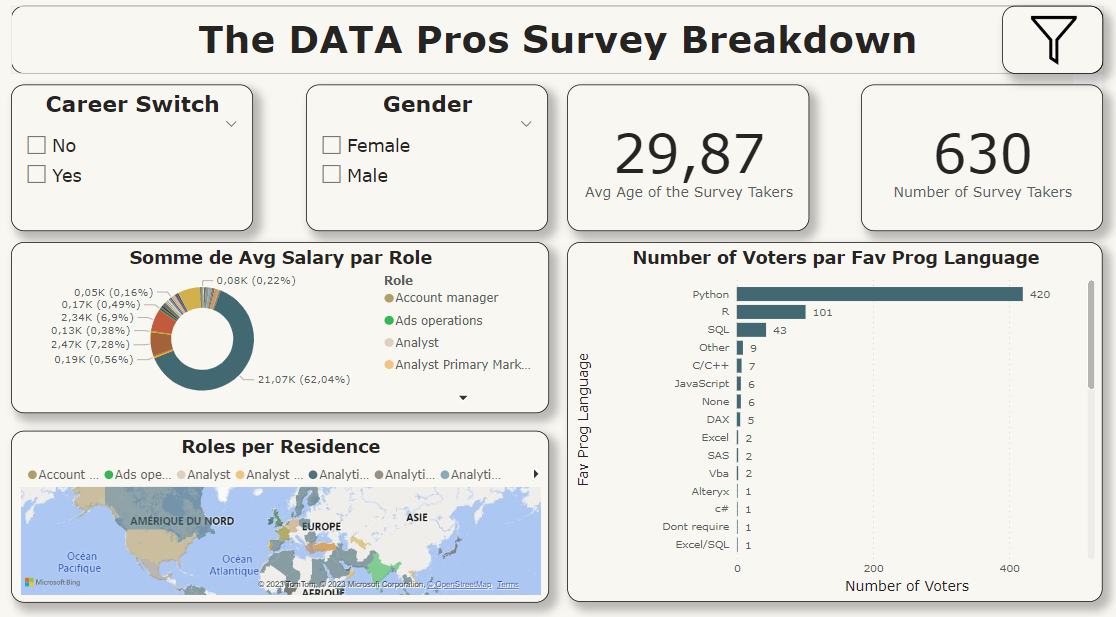

This screenshot's page, from the dashboard's own definition file:
{"tool":"powerbi","page":{"name":"Data Pro Survey Report","canvas":[1280,720],"ordinal":0},"visuals":[{"type":"slicer","title":"Career Switch","fields":{"Values":["Data Professional Survey.Q2 - Did you switch careers into Data?"]},"box":[16.5,105.7,275.8,167.4],"z":0},{"type":"slicer","title":"Gender","fields":{"Values":["Data Professional Survey.Q9 - Male/Female?"]},"box":[354,105.7,275.8,167.4],"z":1000},{"type":"textbox","box":[16.5,15,1245.8,78],"z":2000},{"type":"card","title":"Gender","fields":{"Values":["Count(Data Professional Survey.Unique ID)"]},"box":[986.6,105.7,275.8,167.4],"z":3000},{"type":"card","title":"Gender","fields":{"Values":["Avg(Data Professional Survey.Age)"]},"box":[651.8,105.7,275.8,167.4],"z":4000},{"type":"donutChart","fields":{"Category":["Data Professional Survey.Q1 - Which Title Best Fits your Current Role?"],"Y":["Sum(Data Professional Survey.Avg Salary)"]},"box":[16.5,285.4,613.4,194.9],"z":5000},{"type":"image","box":[1146.8,15.2,115.3,77.4],"z":6000},{"type":"barChart","fields":{"Category":["Data Professional Survey.Fav Prog Language"],"Y":["CountNonNull(Data Professional Survey.Unique ID)"]},"box":[651.8,285.4,610.6,410.3],"z":7000},{"type":"filledMap","title":"Roles per Residence","fields":{"Category":["Data Professional Survey.Country of Residence"],"Series":["Data Professional Survey.Role "]},"box":[16.5,500.9,613.4,196.2],"z":8000}]}

Visuals, with their boxes in screenshot pixels (x1, y1, x2, y2), scaled from the page's 1280x720 canvas onto the 1116x617 screenshot:
"Career Switch" slicer: {"x1": 14, "y1": 91, "x2": 255, "y2": 234}
"Gender" slicer: {"x1": 309, "y1": 91, "x2": 549, "y2": 234}
textbox: {"x1": 14, "y1": 13, "x2": 1101, "y2": 80}
"Gender" card: {"x1": 860, "y1": 91, "x2": 1101, "y2": 234}
"Gender" card: {"x1": 568, "y1": 91, "x2": 809, "y2": 234}
donutChart - Data Professional Survey.Q1 - Which Title Best Fits your Current Role? x Sum(Data Professional Survey.Avg Salary): {"x1": 14, "y1": 245, "x2": 549, "y2": 412}
image: {"x1": 1000, "y1": 13, "x2": 1100, "y2": 79}
barChart - Data Professional Survey.Fav Prog Language x CountNonNull(Data Professional Survey.Unique ID): {"x1": 568, "y1": 245, "x2": 1101, "y2": 596}
"Roles per Residence" filledMap: {"x1": 14, "y1": 429, "x2": 549, "y2": 597}
